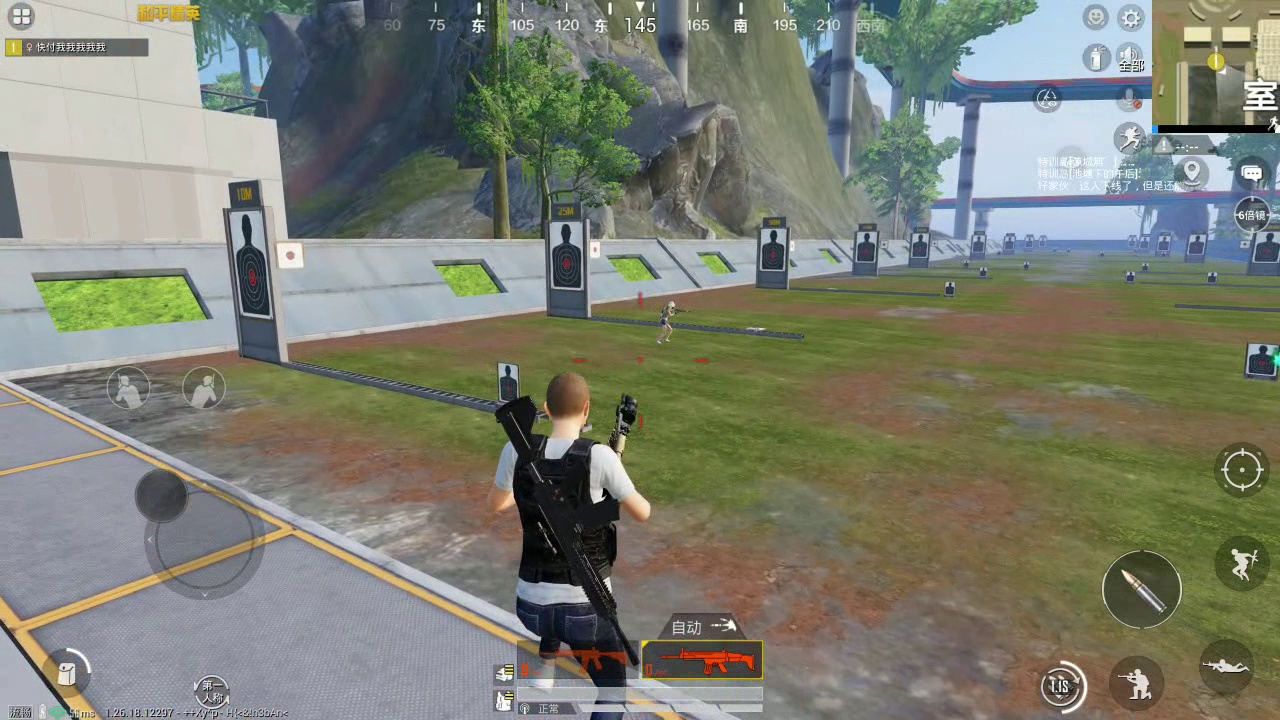enemy: (659, 301, 679, 342)
